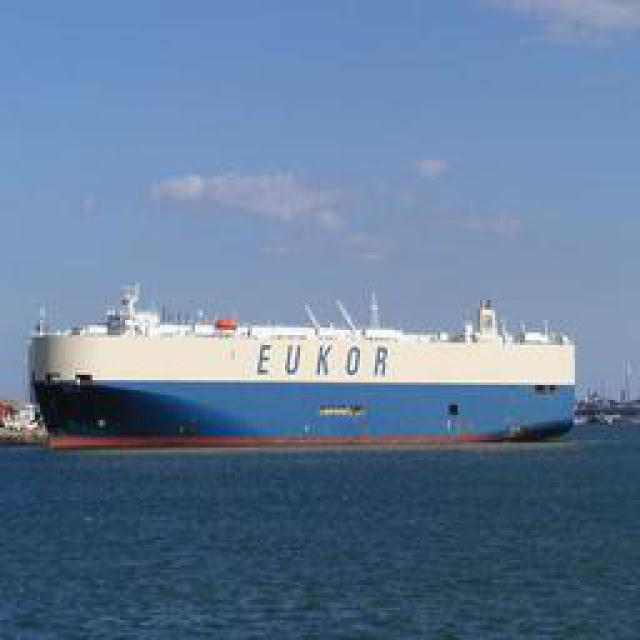Ship: (31, 300, 576, 448)
